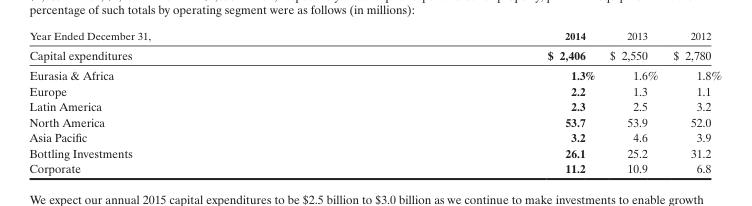table: (28, 29, 721, 175)
table column: (28, 29, 348, 175), (348, 29, 601, 175), (601, 29, 665, 175), (665, 29, 721, 175)
table column header: (28, 29, 721, 44)
table row: (28, 44, 721, 65), (28, 65, 721, 82), (28, 82, 721, 98), (28, 113, 721, 129), (28, 144, 721, 160), (28, 29, 721, 44), (28, 98, 721, 113), (28, 129, 721, 144), (28, 160, 721, 175)
